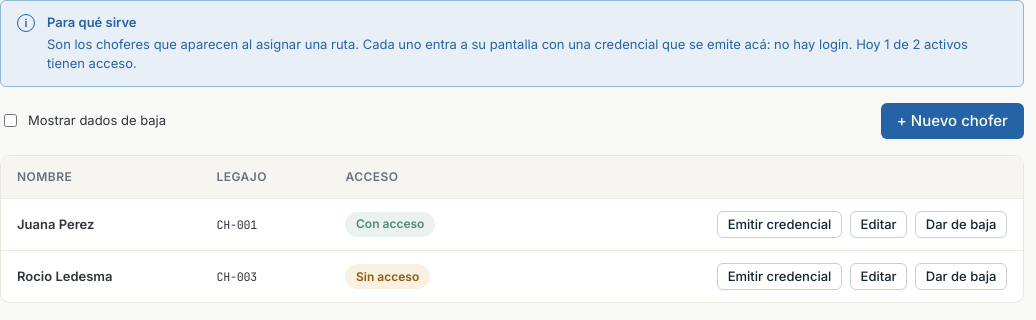
Test: CU-09 · choferes › por defecto no pide los dados de baja, y tildando los ofrece reactivar y nada mas
This screenshot has width=1036, height=320.
Expected: the text "Juana Perez" is shown, [17,216,94,232]
Click the checkbox labelled "Mostrar dados de baja" at [10, 121], box [4,114,17,127]
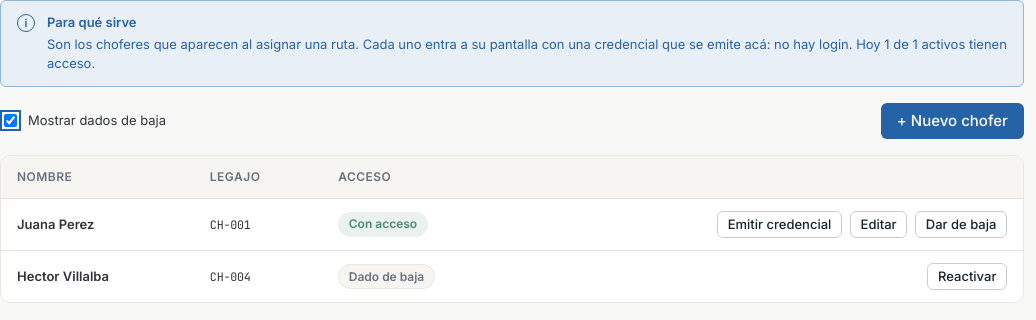
Expected: the text "Hector Villalba" is shown, [17,268,109,284]
Expected: the text "Dado de baja" is shown, [338,264,435,289]
